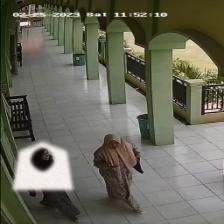Mukena: (13, 142, 72, 189)
